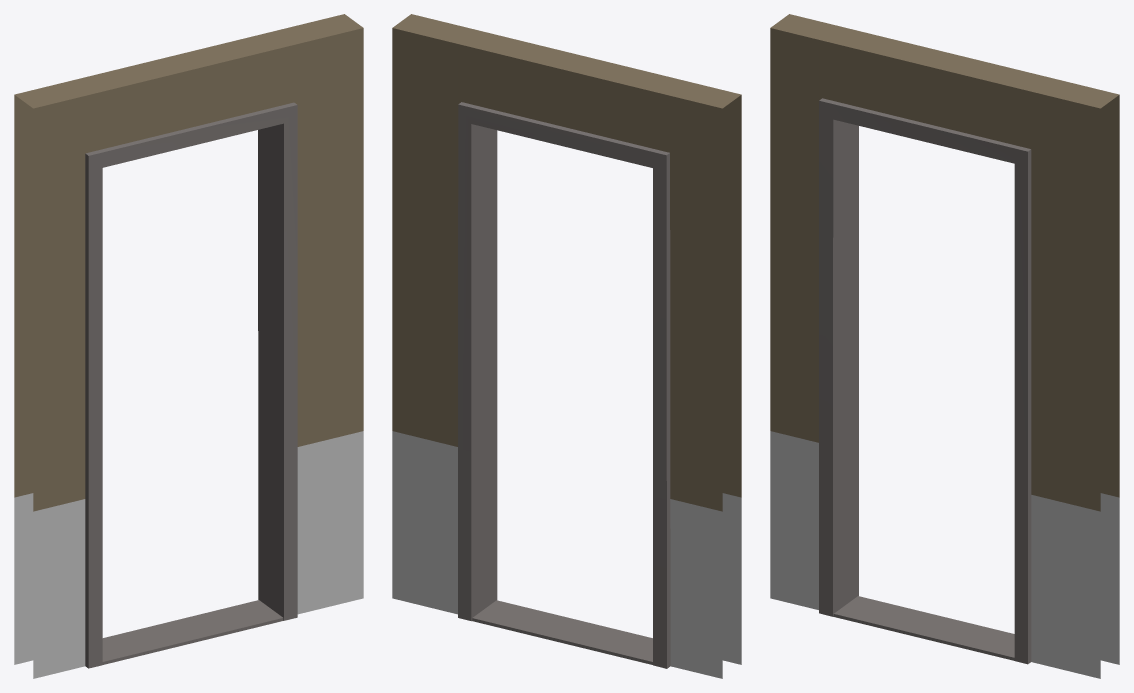
The model's file is SM_DoorFrame_A1_200.FBX.
3 views of the same model, side by side, from view 1: azimuth 30°, elevation 25°; view 2: azimuth 150°, elevation 25°; view 3: azimuth 330°, elevation 25° (orthographic).
Visible parts, largest first — view 1: SM_DoorFrame_A1_200; view 2: SM_DoorFrame_A1_200; view 3: SM_DoorFrame_A1_200.
Boxes of the visible parts, box(x1,y1,x2,y2) form: SM_DoorFrame_A1_200: box(14, 14, 363, 678); SM_DoorFrame_A1_200: box(392, 14, 741, 678); SM_DoorFrame_A1_200: box(770, 14, 1119, 678).
Size of the model in its own units: 200 by 27.36 by 330.
